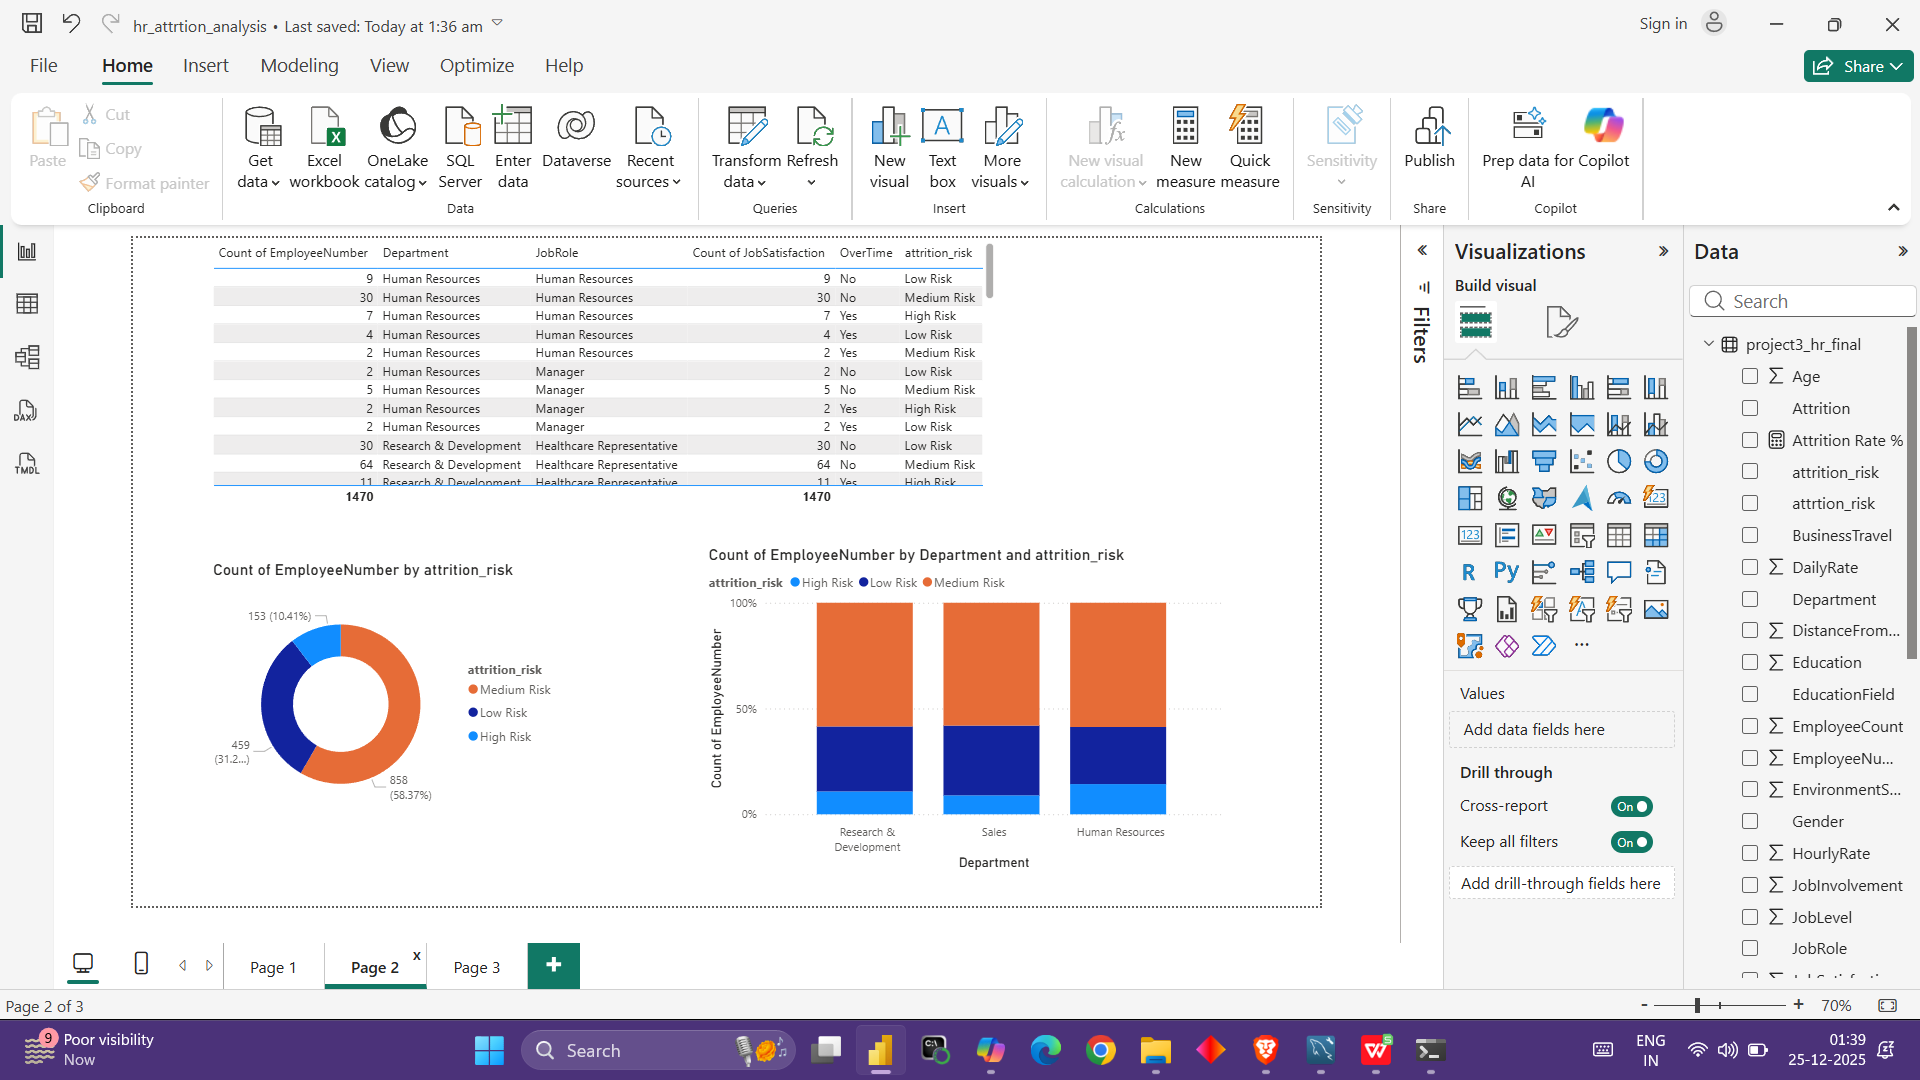

The page's visual inventory and layout, read from the dashboard file:
{"tool":"powerbi","page":{"name":"Page 2","canvas":[1280,720],"ordinal":1},"visuals":[{"type":"donutChart","fields":{"Category":["project3_hr_final.attrition_risk"],"Y":["CountNonNull(project3_hr_final.EmployeeNumber)"]},"box":[81.6,347.3,383.6,291.5],"z":0},{"type":"hundredPercentStackedColumnChart","fields":{"Category":["project3_hr_final.Department"],"Series":["project3_hr_final.attrition_risk"],"Y":["CountNonNull(project3_hr_final.EmployeeNumber)"]},"box":[616.2,330.7,563.3,354.9],"z":1000},{"type":"tableEx","fields":{"Values":["CountNonNull(project3_hr_final.EmployeeNumber)","project3_hr_final.Department","project3_hr_final.JobRole","CountNonNull(project3_hr_final.JobSatisfaction)","project3_hr_final.OverTime","project3_hr_final.attrition_risk"]},"box":[81.6,0,851.7,291.5],"z":1001}]}

Visuals, with their boxes on the page's 1280x720 design canvas (x1, y1, x2, y2). These are canvas units, not pixel positions in the 1920x1080 screenshot, which may show the page scaled, cropped or inside an application window:
donutChart - project3_hr_final.attrition_risk x CountNonNull(project3_hr_final.EmployeeNumber): x1=82, y1=347, x2=465, y2=639
hundredPercentStackedColumnChart - project3_hr_final.Department x project3_hr_final.attrition_risk: x1=616, y1=331, x2=1180, y2=686
tableEx - CountNonNull(project3_hr_final.EmployeeNumber) x project3_hr_final.Department: x1=82, y1=0, x2=933, y2=292
